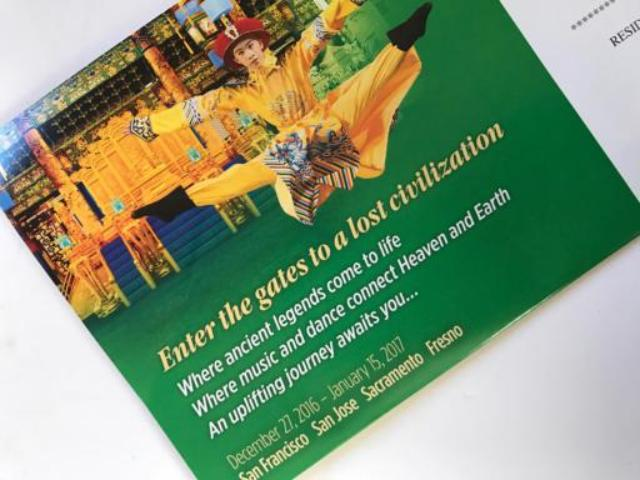cardboard paper: (0, 0, 638, 476)
